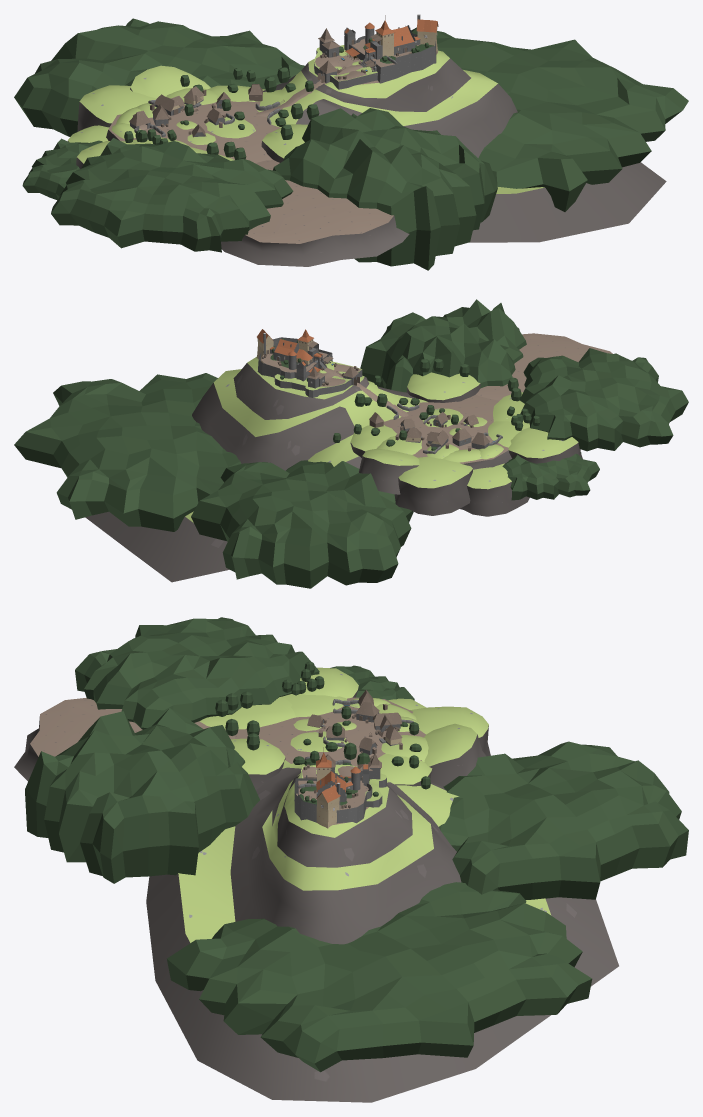
Rendered from town.fbx.
3 views of the same model, one above another, from view 1: azimuth 30°, elevation 25°; view 2: azimuth 150°, elevation 25°; view 3: azimuth 270°, elevation 25° (orthographic). The views are drawn at different scales.
Visible parts, largest first — view 1: Object_16, Object_12, Object_18, Object_13, boxes2, Object_17, roofs, houses, roofs2, Object_8, boxes; view 2: Object_16, Object_12, Object_18, Object_13, boxes2, Object_17, roofs, houses, roofs2, boxes, Object_8; view 3: Object_16, Object_12, Object_18, Object_13, Object_17, boxes2, roofs, houses, Object_8, roofs2.
Part boxes in pixels (x1,y1,x2,y2): Object_16: (14,18,688,270); Object_12: (67,54,666,266); Object_18: (67,45,544,193); Object_13: (108,38,420,243); boxes2: (155,15,436,115); Object_17: (124,38,428,159); roofs: (129,28,340,136); houses: (130,40,407,139); roofs2: (345,19,438,56); Object_8: (172,26,437,110); boxes: (133,32,415,134); Object_16: (14,299,688,588); Object_12: (85,363,582,582); Object_18: (185,356,578,522); Object_13: (261,333,612,463); boxes2: (257,333,448,447); Object_17: (272,338,540,442); roofs: (307,366,489,448); houses: (276,346,502,453); roofs2: (257,329,322,372); boxes: (264,340,494,451); Object_8: (256,335,440,444); Object_16: (25,617,688,1072); Object_12: (14,686,618,1102); Object_18: (178,667,551,942); Object_13: (30,697,425,824); Object_17: (215,661,430,801); boxes2: (294,724,400,823); roofs: (307,689,402,770); houses: (297,699,413,800); Object_8: (316,719,401,828); roofs2: (316,752,368,802).
Size of the model in its own units: 30091 by 9050 by 24612.
